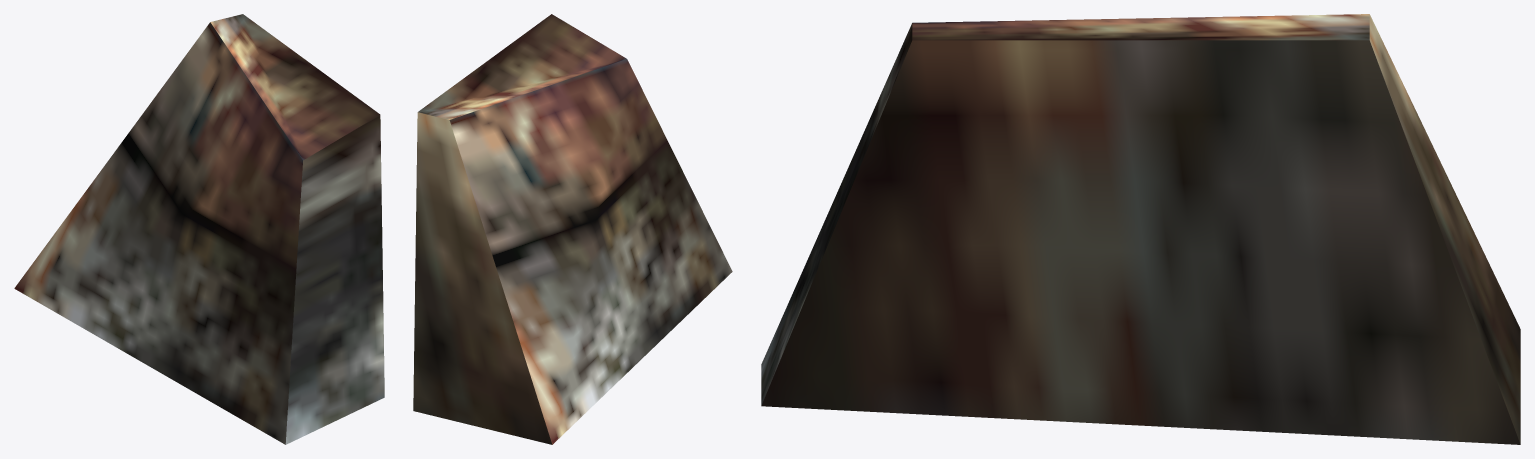
The model's file is USA - Base Infrastructure - Power Plant - Damage State 20 - ABPWRPLANT_d20.glb.
3 views of the same model, side by side, from view 1: azimuth 30°, elevation 25°; view 2: azimuth 150°, elevation 25°; view 3: azimuth 270°, elevation 25° (orthographic). The views are drawn at different scales.
Visible parts, largest first — view 1: ABPWRPLANT_D20; view 2: ABPWRPLANT_D20; view 3: ABPWRPLANT_D20.
Part boxes in pixels (x1,y1,x2,y2): ABPWRPLANT_D20: (14, 14, 384, 444); ABPWRPLANT_D20: (413, 14, 732, 444); ABPWRPLANT_D20: (761, 14, 1520, 444).
Size of the model in its own units: 4.25 by 5.82 by 9.14.
Materials: 1 (1 with a texture image).
